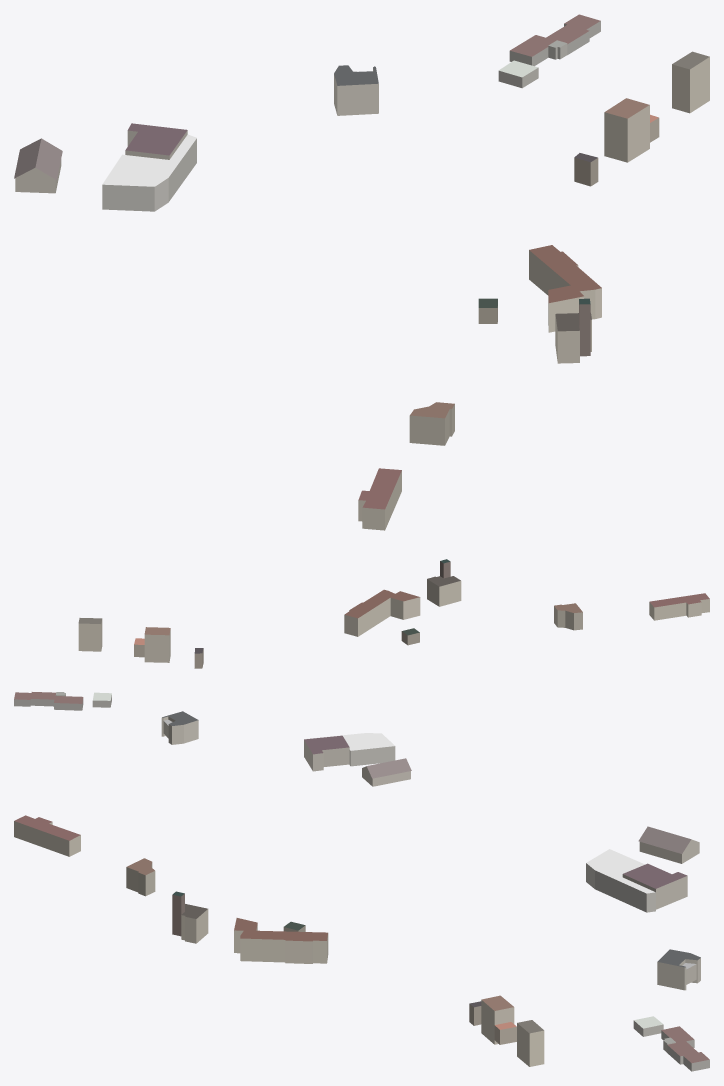
The picture shows the model from 3 angles, top to bottom: view 1: azimuth 30°, elevation 25°; view 2: azimuth 150°, elevation 25°; view 3: azimuth 270°, elevation 25°; orthographic projection. The views are drawn at different scales.
Parts seen in each view (by area): view 1: tuile; view 2: tuile; view 3: tuile.
Boxes of the visible parts, x1,y1,x2,y2 form: tuile: (14, 14, 709, 530); tuile: (14, 559, 709, 786); tuile: (14, 815, 709, 1071).
Size of the model in its own units: 221 by 24.05 by 257.
